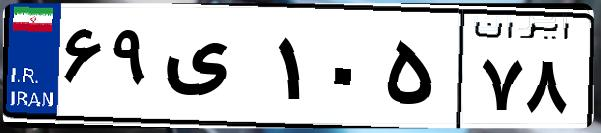0: (330, 28, 385, 110)
1: (270, 28, 330, 110)
5: (385, 28, 445, 110)
6: (57, 26, 110, 100)
7: (475, 38, 525, 113)
8: (525, 38, 570, 115)
9: (110, 28, 158, 98)
ی: (158, 20, 270, 120)
